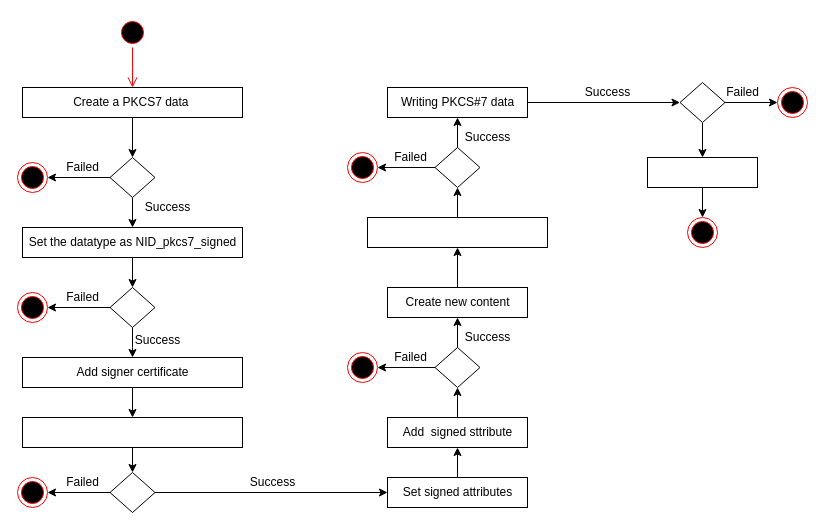
This 825x530 diagram has some shape labels left out. Each missing label, with the box of its shape:
Add signer signature: (22, 416, 242, 448)
Finalize PKCS#7: (646, 156, 758, 188)
Open bio for writing PKCS#7: (366, 216, 548, 248)
